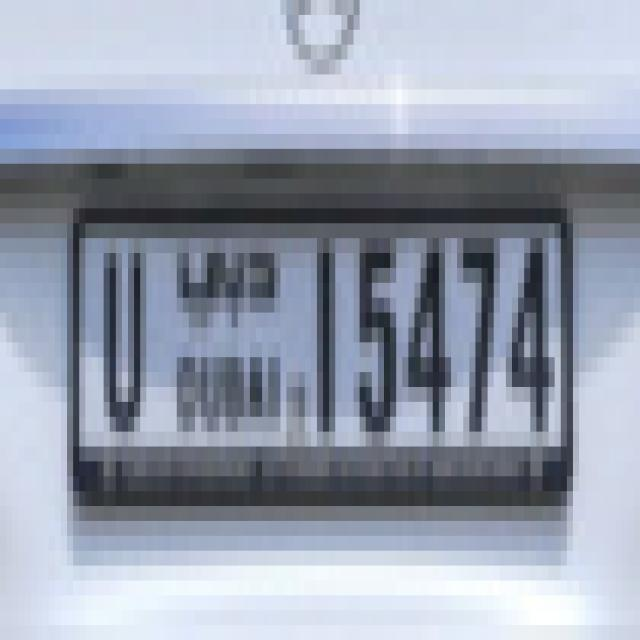1: (308, 226, 344, 446)
4: (505, 221, 559, 444), (402, 227, 450, 442)
5: (351, 227, 401, 450)
7: (456, 219, 498, 444)
U: (98, 233, 148, 438)
